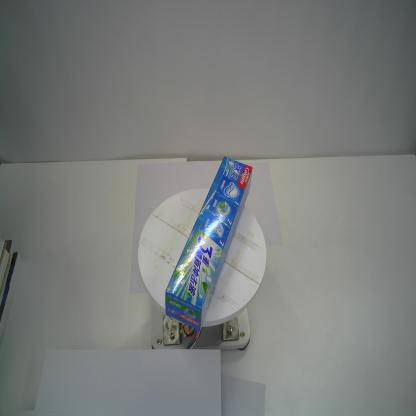Personal Hygiene: (164, 155, 253, 331)
